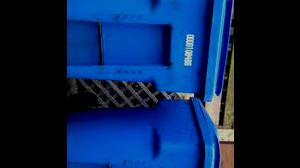Plastic: (67, 0, 234, 105), (67, 97, 227, 167)
